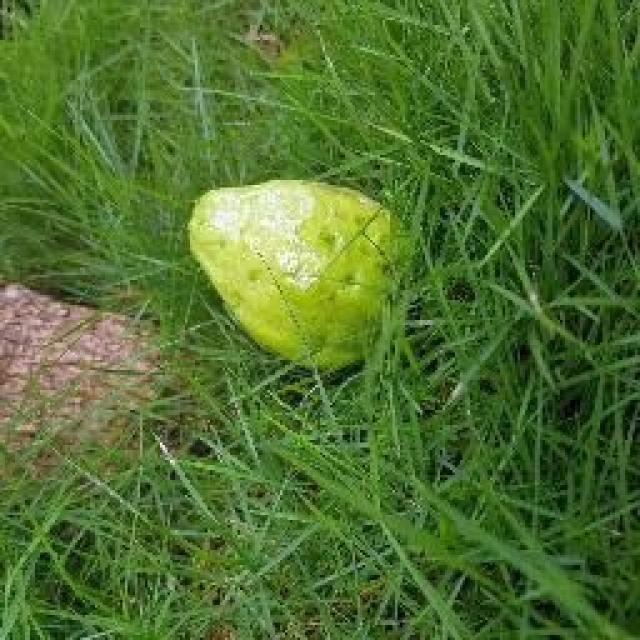Good_Guava: (188, 180, 410, 378)
